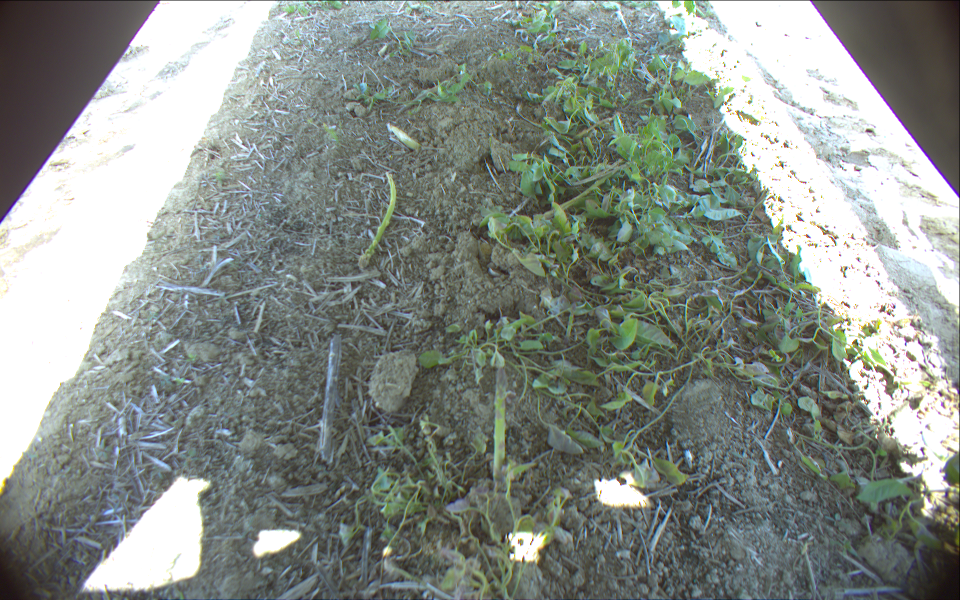aspa: (357, 172, 395, 269), (493, 365, 508, 484), (386, 122, 421, 151)
